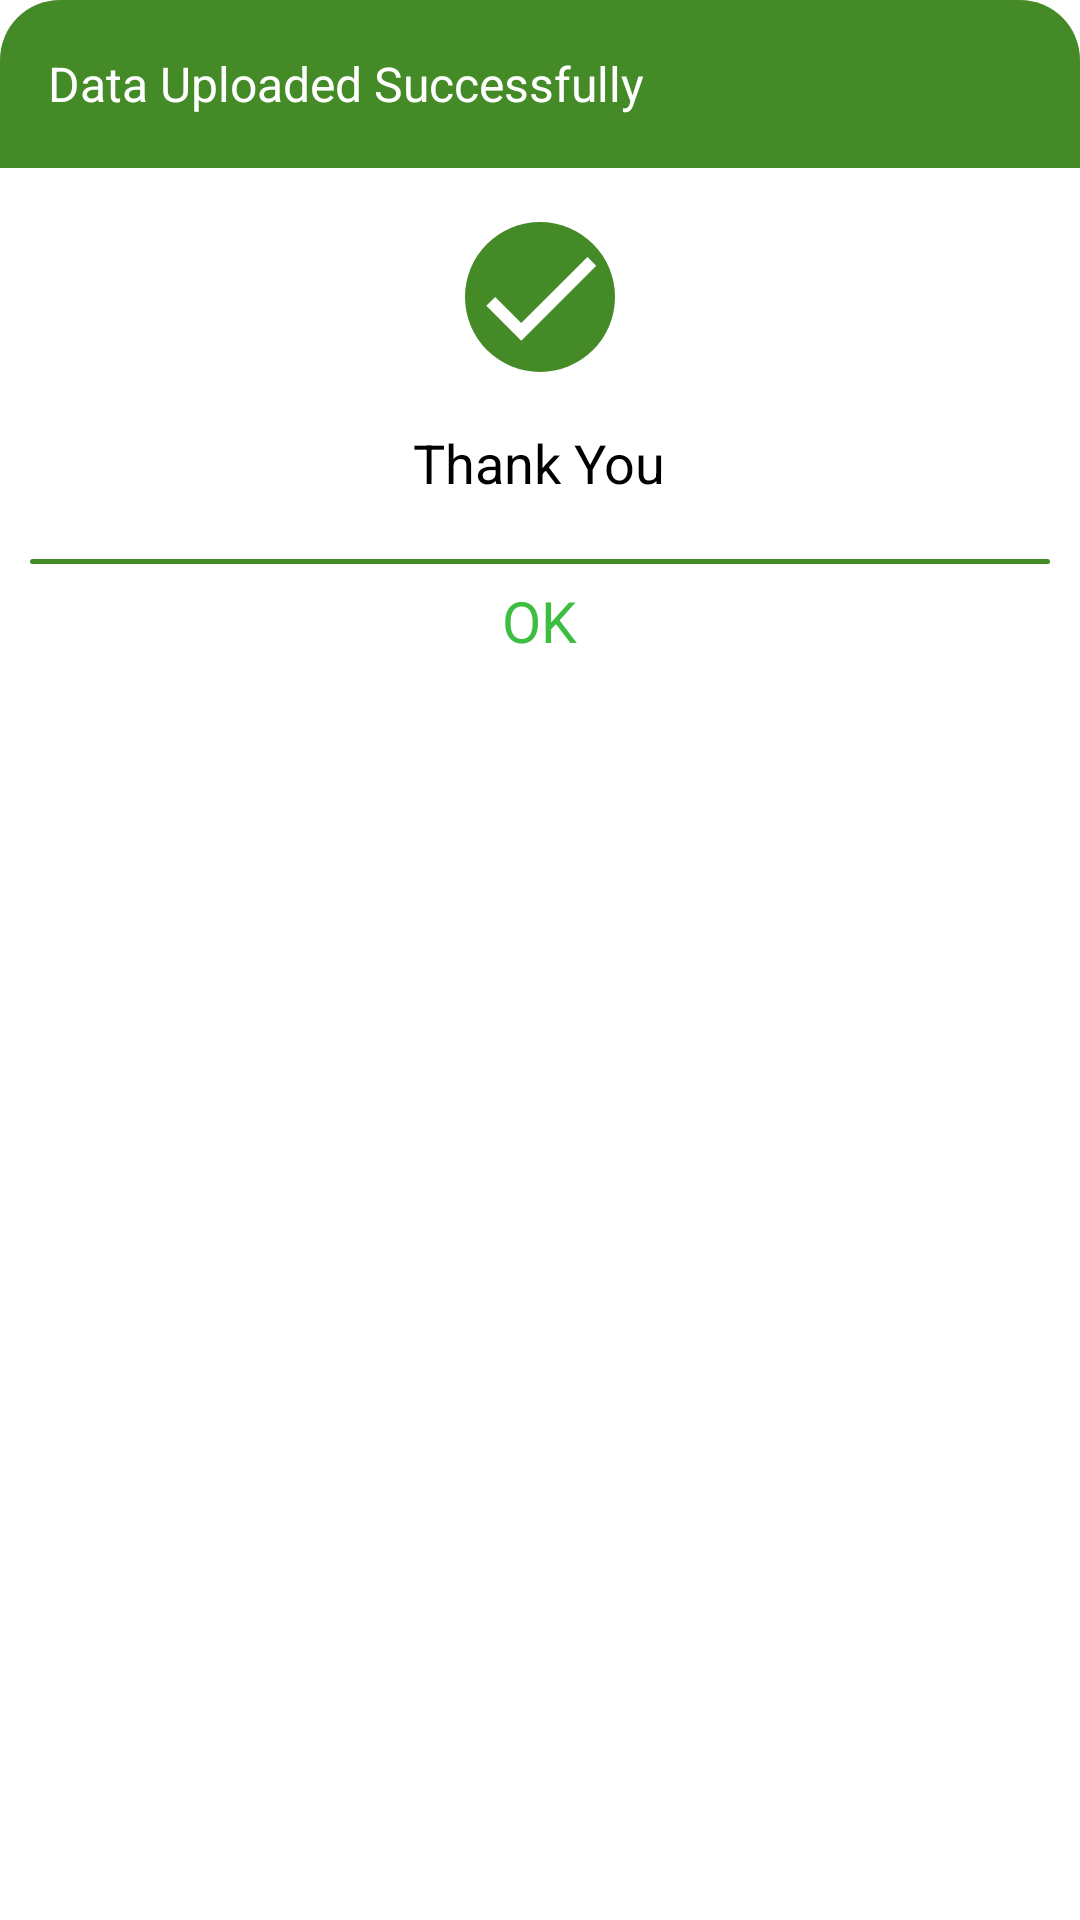

Icon click points for this 1080×1920 phone screenshot, format point (x, y):
tick: point (540, 297)
